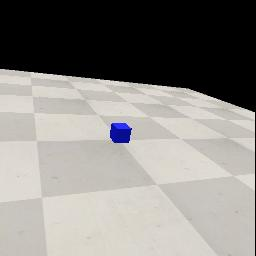box: (110, 123, 132, 143)
